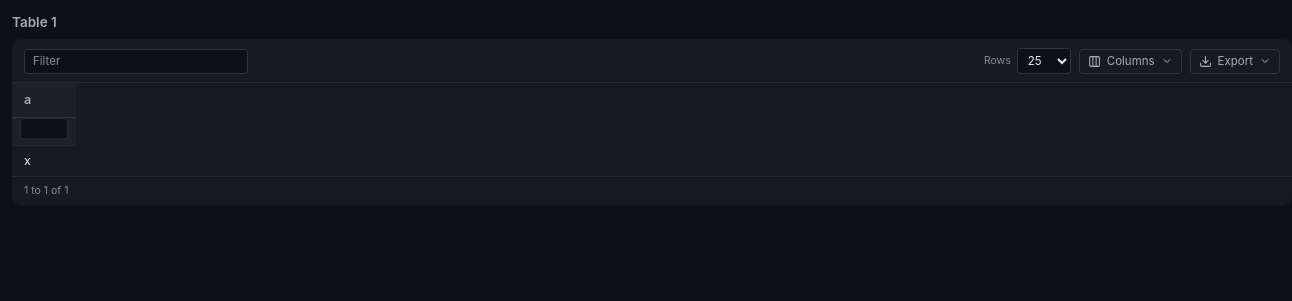
every table can be filtered › says so when nothing matches, rather than showing an empty table
Type "zzz" into the field with placeholder "Filter" at [136, 61], box left=24, top=49, right=248, bottom=74
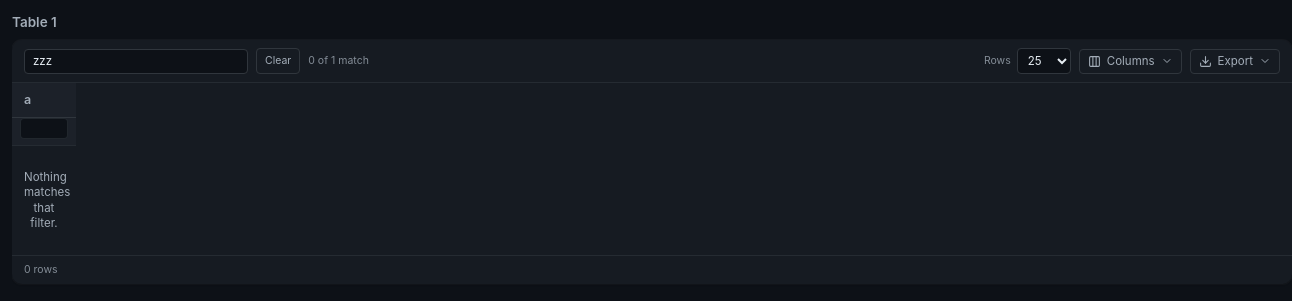
Expected: the text "Nothing matches that filter." is shown, left=12, top=146, right=76, bottom=255
